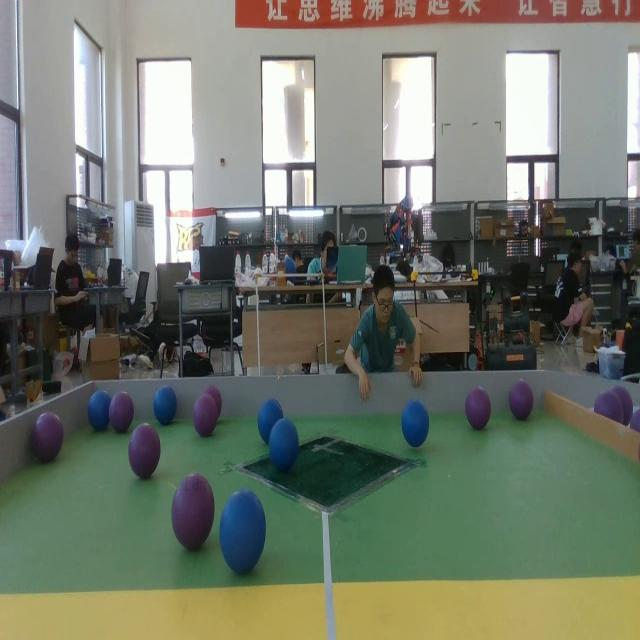blue: (222, 494, 265, 570), (270, 421, 304, 476), (403, 403, 434, 449), (255, 398, 285, 440), (86, 389, 110, 435), (153, 386, 180, 426)
invalid: (172, 472, 214, 549), (124, 422, 162, 482), (34, 408, 63, 464), (589, 390, 622, 439), (463, 386, 492, 429), (192, 391, 215, 440), (108, 390, 132, 434), (511, 378, 536, 418), (614, 384, 632, 424), (629, 396, 640, 441), (206, 386, 224, 412)
